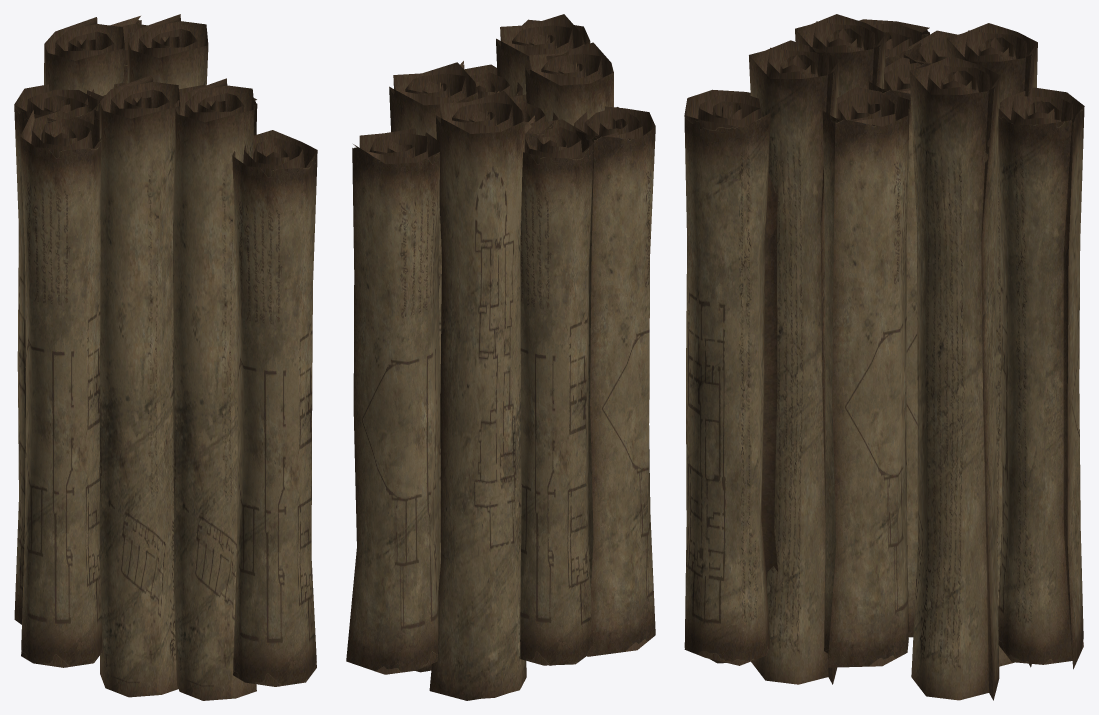
Rendered from sketch_roll_row01.dae.
3 views of the same model, side by side, from view 1: azimuth 30°, elevation 25°; view 2: azimuth 150°, elevation 25°; view 3: azimuth 270°, elevation 25° (orthographic). The views are drawn at different scales.
Parts seen in each view (by area): view 1: Cylinder_004_002; view 2: Cylinder_004_002; view 3: Cylinder_004_002.
Part boxes in pixels (x1=…): Cylinder_004_002: x1=14, y1=14, x2=317, y2=700; Cylinder_004_002: x1=346, y1=14, x2=655, y2=700; Cylinder_004_002: x1=684, y1=14, x2=1084, y2=700.
Bounding box in the file's own units: 0.6599 × 1.71 × 1.
